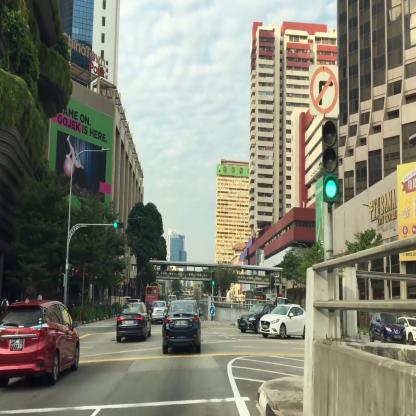green_traffic_light: (322, 128, 337, 199), (114, 223, 123, 228), (212, 271, 214, 284)
